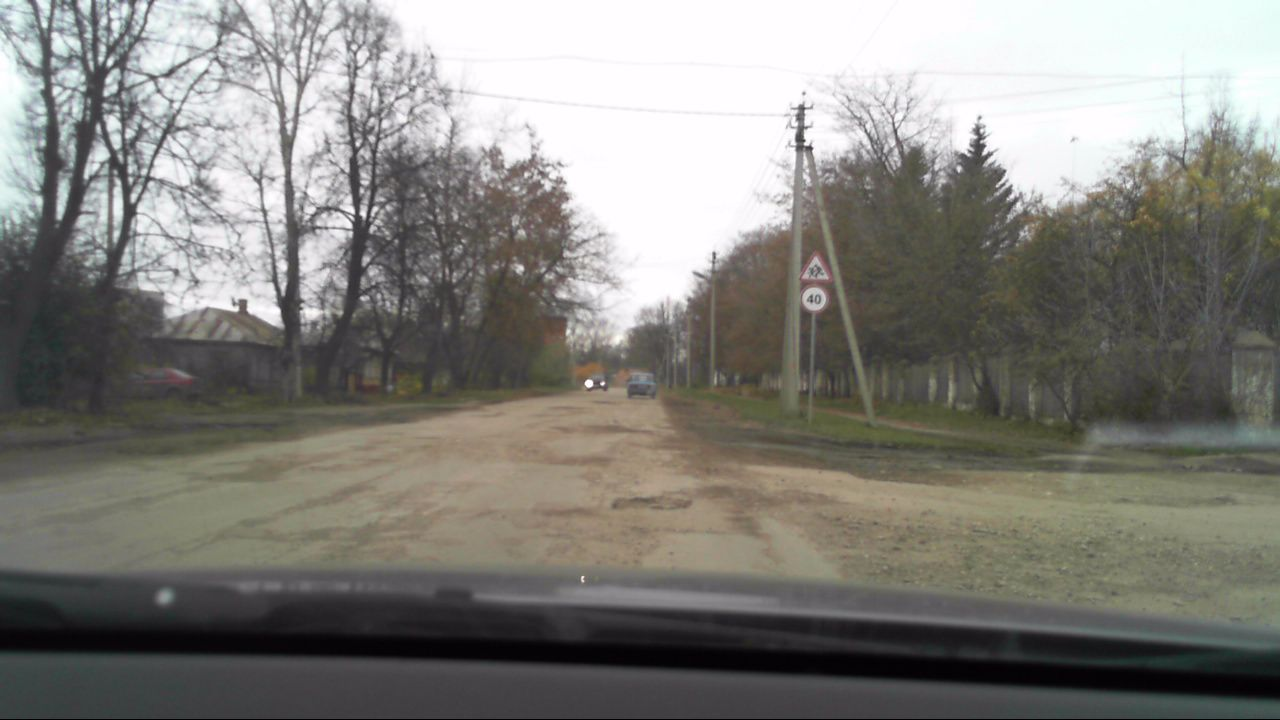speed_warning_40: (799, 285, 828, 312)
